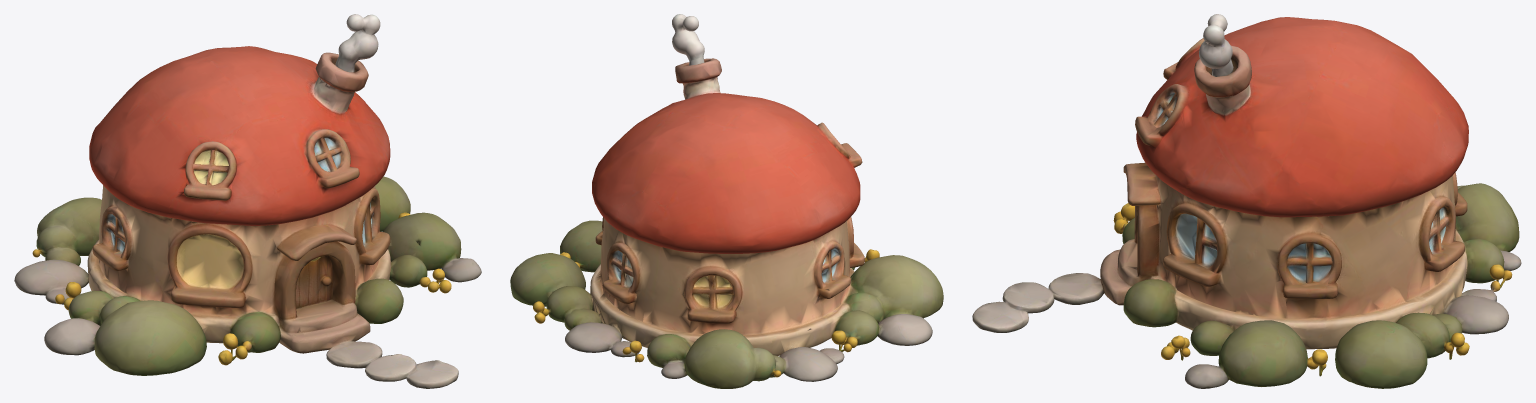
The model's file is home.glb.
The picture shows the model from 3 angles, left to right: view 1: azimuth 30°, elevation 25°; view 2: azimuth 150°, elevation 25°; view 3: azimuth 270°, elevation 25°; orthographic projection. The views are drawn at different scales.
Parts seen in each view (by area): view 1: tripo_node_c68c4276-e37f-4ef2-9f06-476f9bad6750; view 2: tripo_node_c68c4276-e37f-4ef2-9f06-476f9bad6750; view 3: tripo_node_c68c4276-e37f-4ef2-9f06-476f9bad6750.
Part boxes in pixels (<box>): tripo_node_c68c4276-e37f-4ef2-9f06-476f9bad6750: <box>14,14,481,388</box>; tripo_node_c68c4276-e37f-4ef2-9f06-476f9bad6750: <box>510,14,943,388</box>; tripo_node_c68c4276-e37f-4ef2-9f06-476f9bad6750: <box>972,14,1521,388</box>.
Bounding box in the file's own units: 0.9558 × 0.6396 × 0.9998.
1 material, 1 textured.
